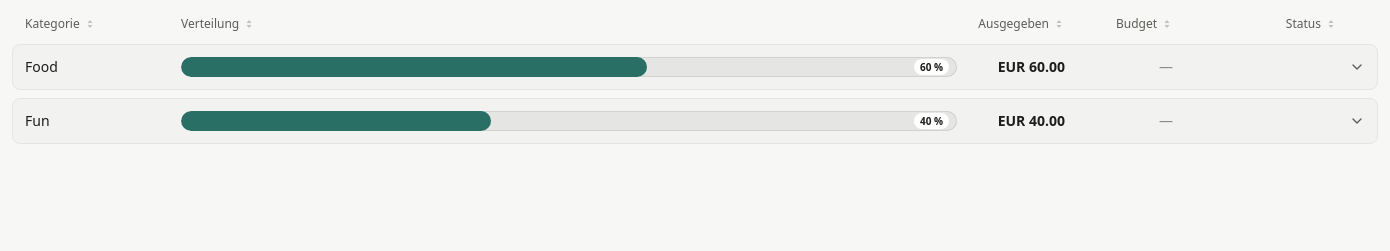
Test: CategoryBreakdown › expands on click showing description, amount and date in the given order, collapses on second click
Step 1. Click the button "Food 60 %" → [695, 67], box 13,45 -> 1377,89
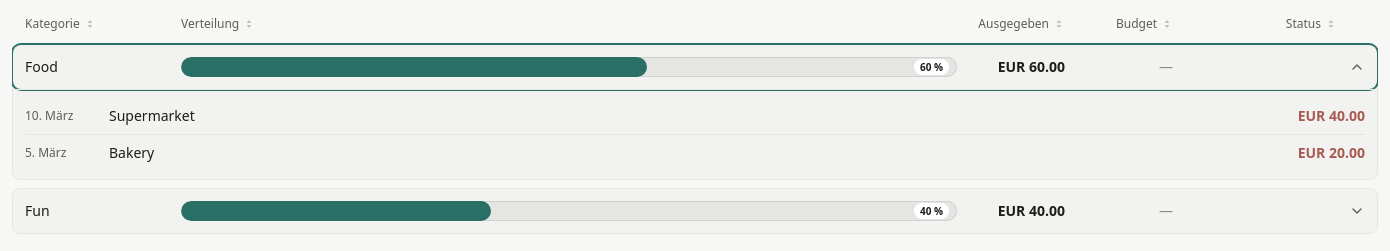
Check: the button "Food 60 %" is expanded
Check: the text "Supermarket" is shown, box 109,106 -> 195,125
Check: the text "Bakery" is shown, box 109,143 -> 154,162
Step 2. Click the button "Food 60 %" → [695, 67], box 13,45 -> 1377,89
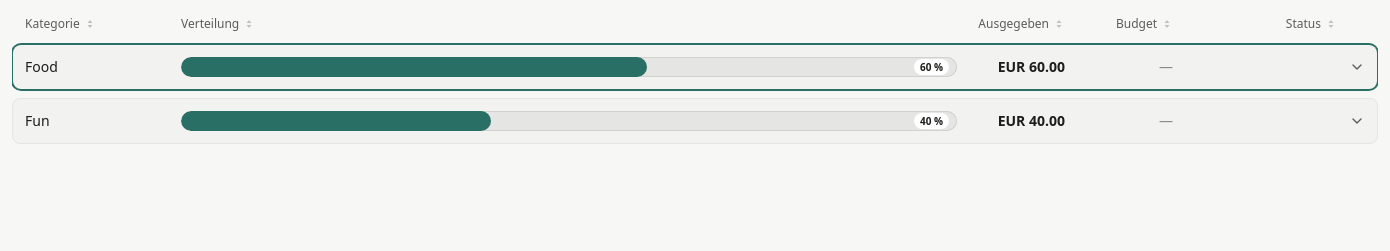
Check: the button "Food 60 %" is collapsed, box 13,45 -> 1377,89
Check: the text "Supermarket" is gone
